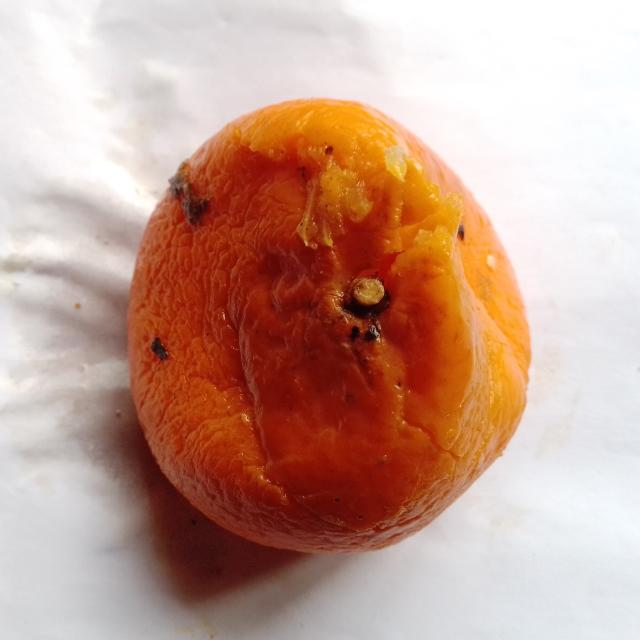orange: (128, 101, 529, 551)
